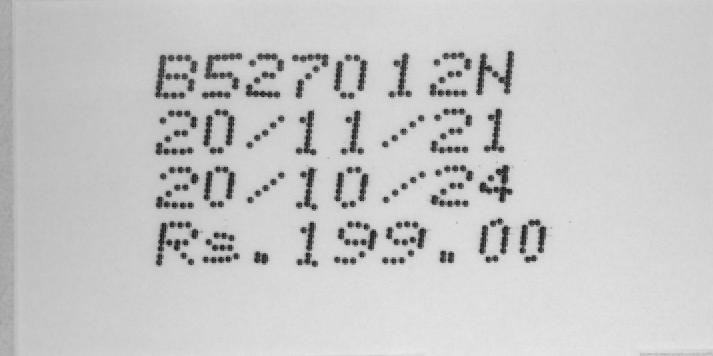.: (243, 244, 277, 274), (429, 241, 463, 271)
/: (376, 161, 431, 212), (376, 105, 431, 156), (238, 162, 292, 213), (240, 106, 294, 157)
0: (474, 214, 515, 266), (513, 215, 554, 267), (330, 51, 371, 101), (198, 107, 239, 157), (199, 162, 240, 212), (331, 163, 372, 213)
1: (382, 50, 423, 100), (291, 107, 328, 158), (335, 107, 372, 158), (478, 105, 515, 156), (290, 163, 327, 214), (290, 220, 327, 271)
2: (150, 107, 201, 159), (151, 162, 202, 214), (427, 107, 479, 156), (424, 50, 476, 99), (426, 163, 477, 209), (243, 50, 288, 100)
4: (474, 161, 521, 207)
5: (198, 50, 246, 100)
7: (287, 51, 332, 101)
9: (332, 218, 382, 268), (377, 219, 430, 266)
B: (150, 52, 201, 101)
N: (473, 47, 518, 99)
R: (153, 219, 202, 267)
S: (201, 230, 242, 267)
